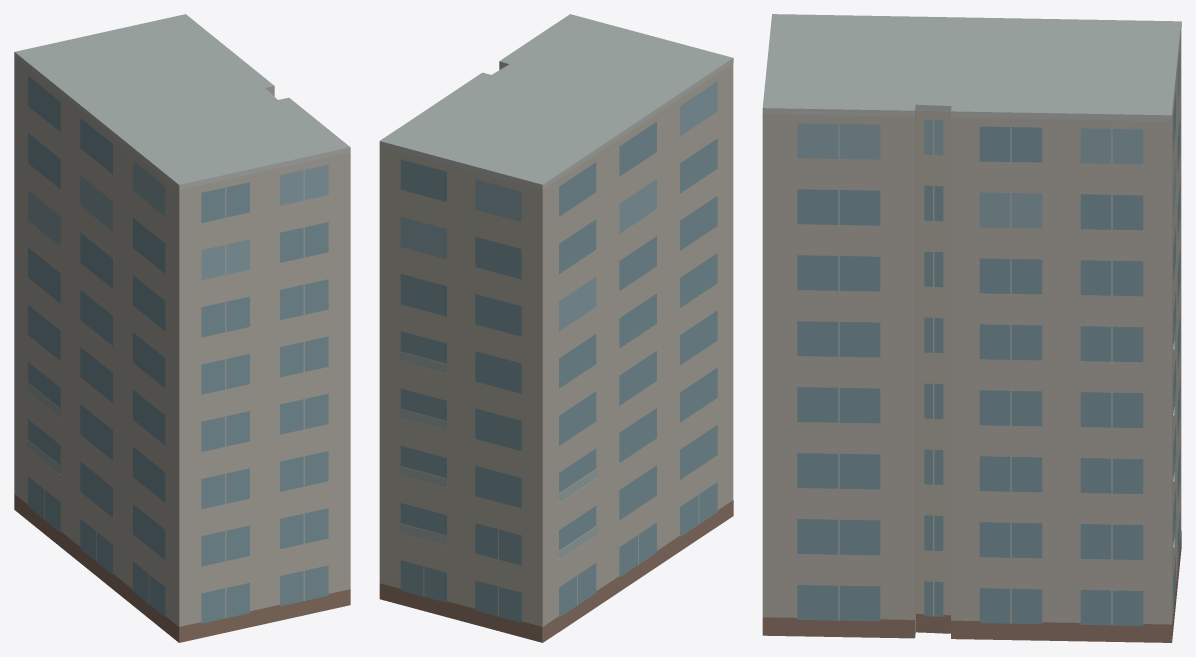
The model's file is survey-upis-32936607.glb.
3 renders of one model, left to right at view 1: azimuth 30°, elevation 25°; view 2: azimuth 150°, elevation 25°; view 3: azimuth 270°, elevation 25°, orthographic. The views are drawn at different scales.
Visible parts, largest first — view 1: survey-upis-32936607.tmp; view 2: survey-upis-32936607.tmp; view 3: survey-upis-32936607.tmp.
Part boxes in pixels (bbox=[...]): survey-upis-32936607.tmp: bbox=[14, 14, 350, 642]; survey-upis-32936607.tmp: bbox=[379, 14, 733, 642]; survey-upis-32936607.tmp: bbox=[762, 14, 1181, 642].
Size of the model in its own units: 8.99 by 21.8 by 15.69.
